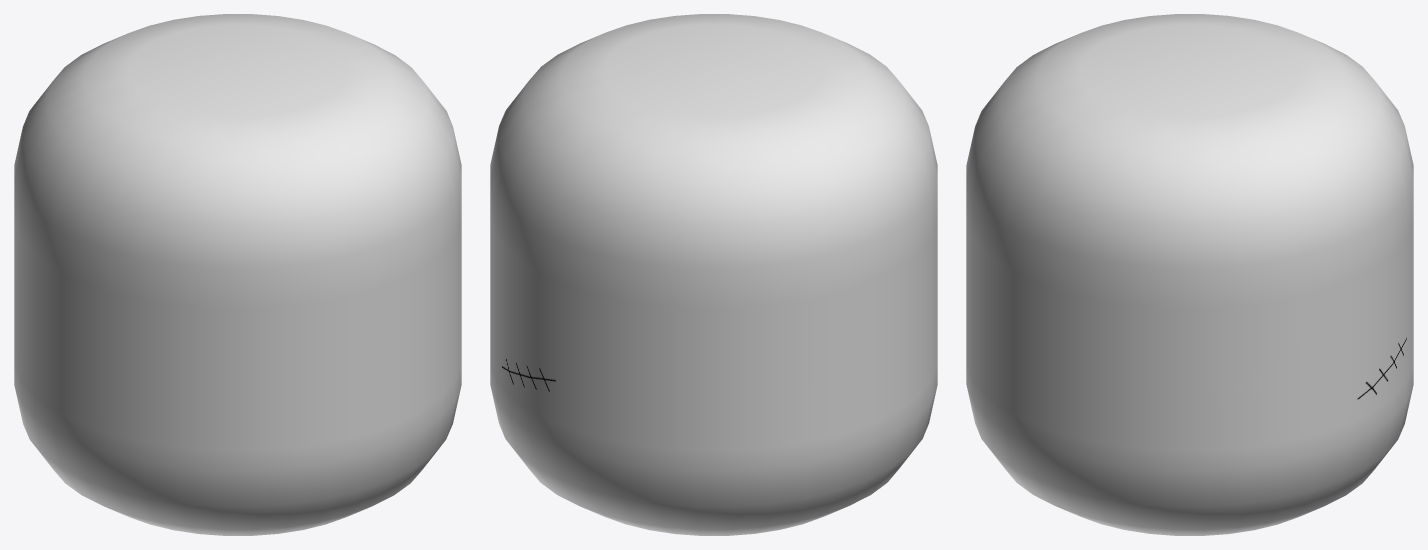
The model's file is 25-vampire-face-full.glb.
3 renders of one model, left to right at view 1: azimuth 30°, elevation 25°; view 2: azimuth 150°, elevation 25°; view 3: azimuth 270°, elevation 25°, orthographic.
Parts seen in each view (by area): view 1: 25-vampire-face-full; view 2: 25-vampire-face-full; view 3: 25-vampire-face-full.
Boxes of the visible parts, x1,y1,x2,y2 form: 25-vampire-face-full: (14,14,461,535); 25-vampire-face-full: (490,14,937,535); 25-vampire-face-full: (966,14,1413,535).
Size of the model in its own units: 1.2 by 1.21 by 1.2.
5 materials, 5 textured.
